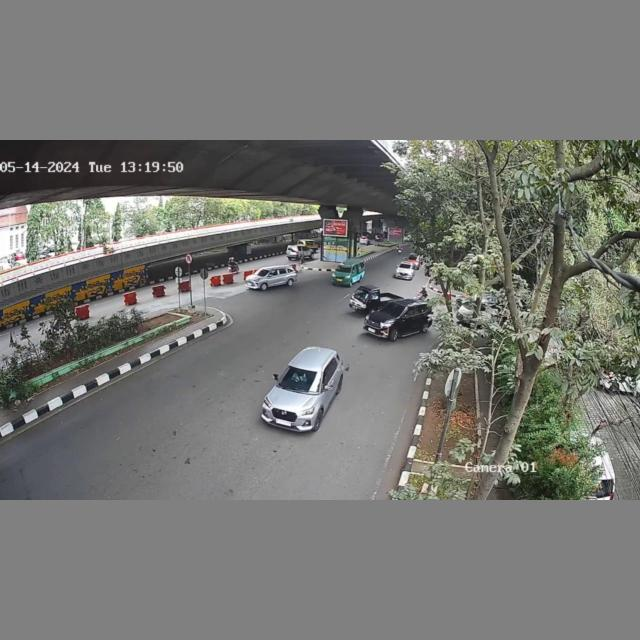windshield: (279, 364, 322, 396)
